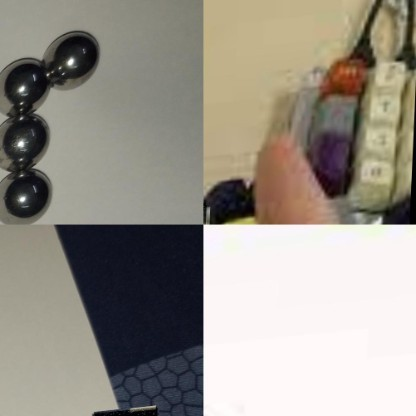ironball: (46, 28, 103, 98), (0, 113, 63, 176), (0, 53, 58, 120), (0, 163, 54, 226)
